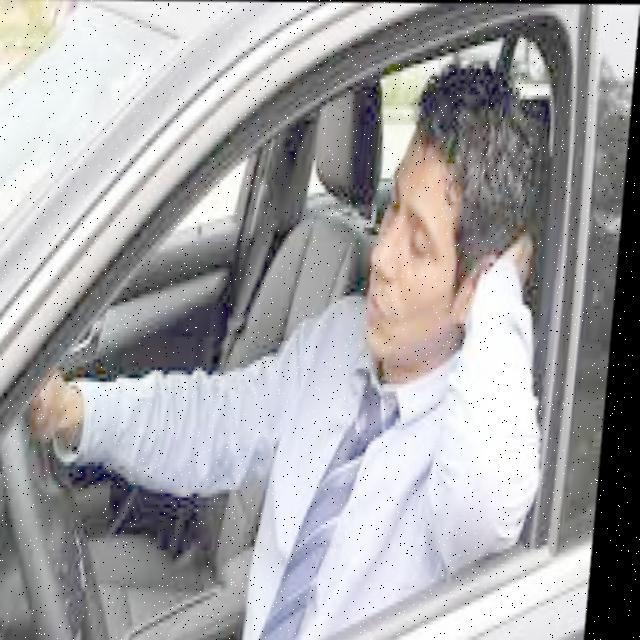noSeatbelt: (240, 288, 508, 640)
